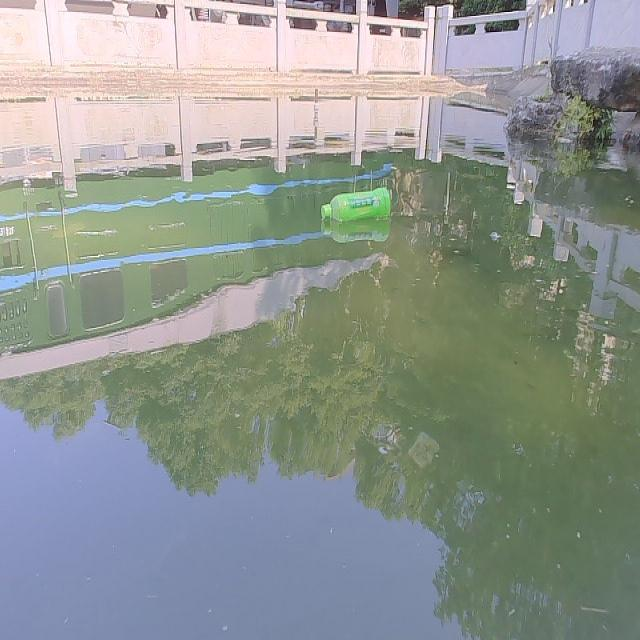Bottle: (316, 181, 394, 223)
